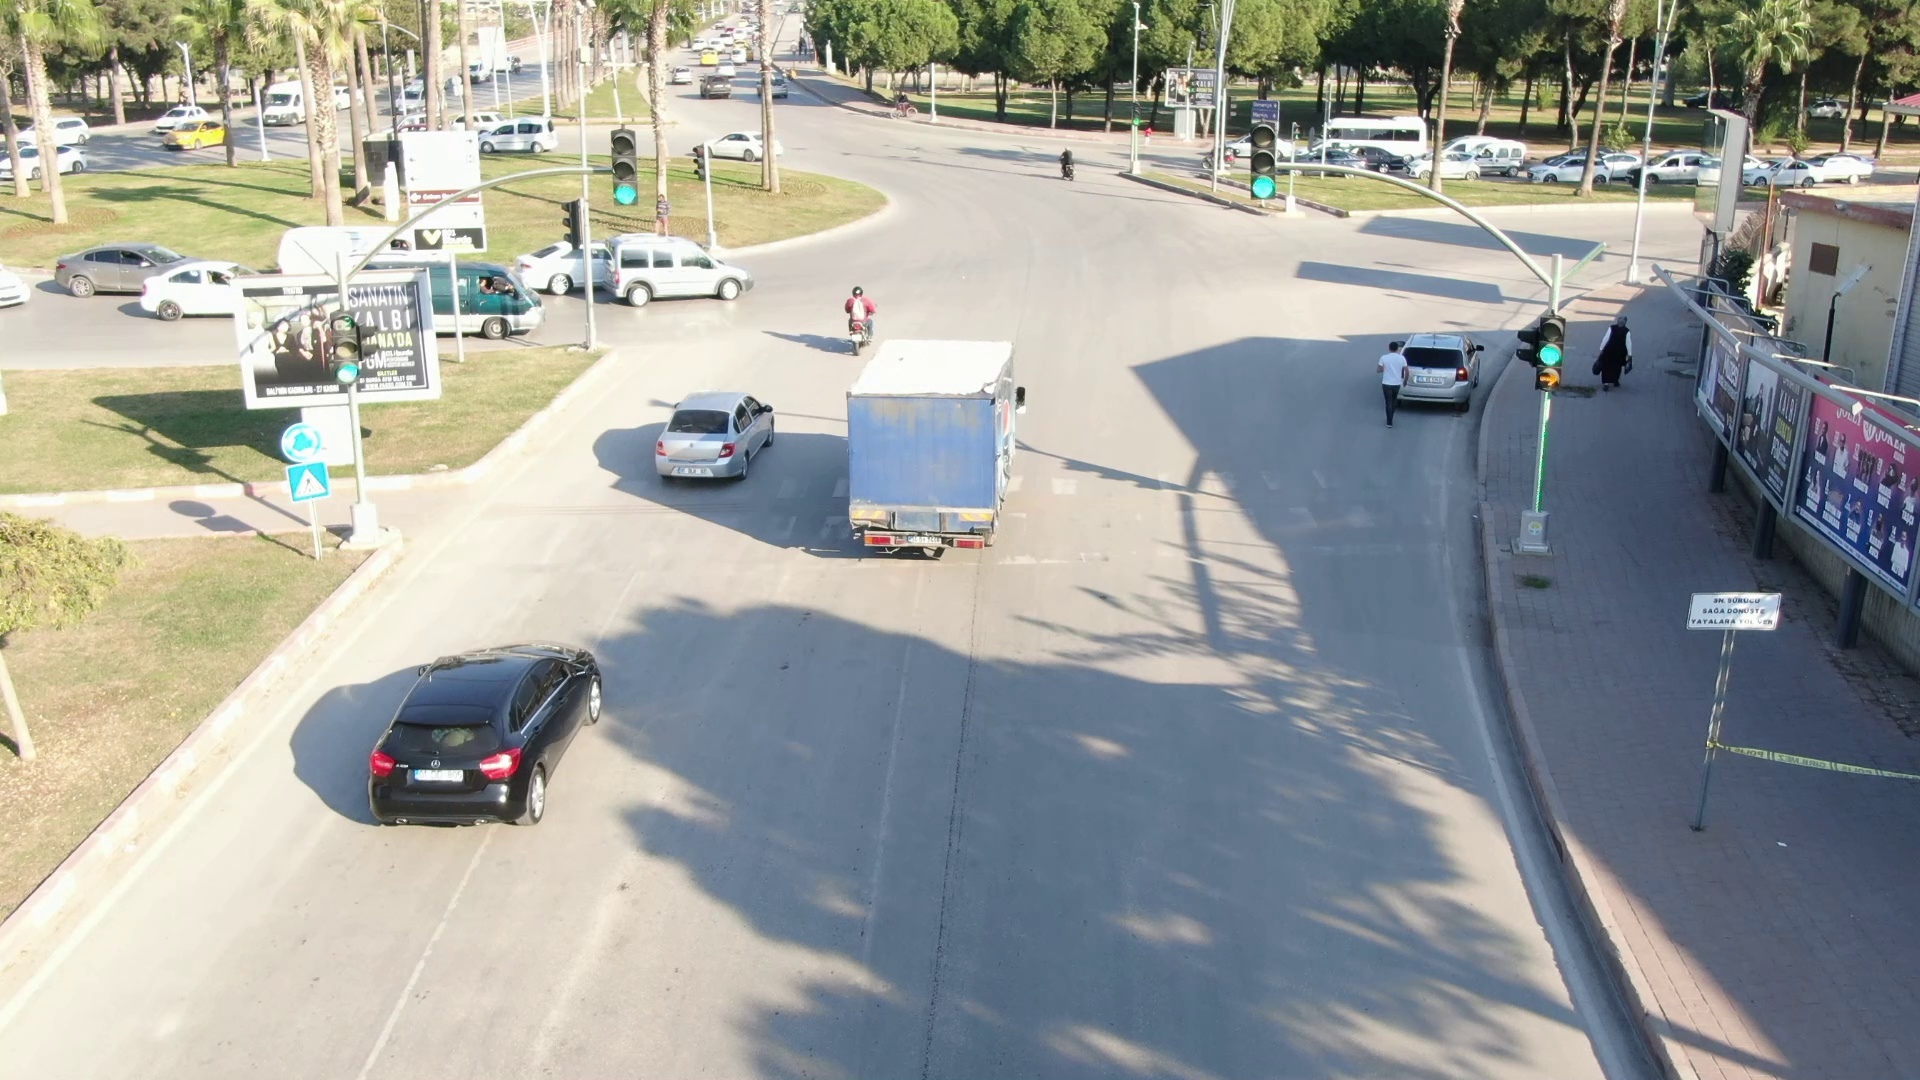car: (357, 616, 633, 838), (643, 367, 782, 498), (599, 220, 758, 308), (49, 242, 205, 306), (1516, 136, 1616, 192), (685, 122, 796, 169), (477, 113, 563, 161), (154, 106, 233, 155)
person: (1585, 307, 1646, 396), (1370, 329, 1410, 431)
